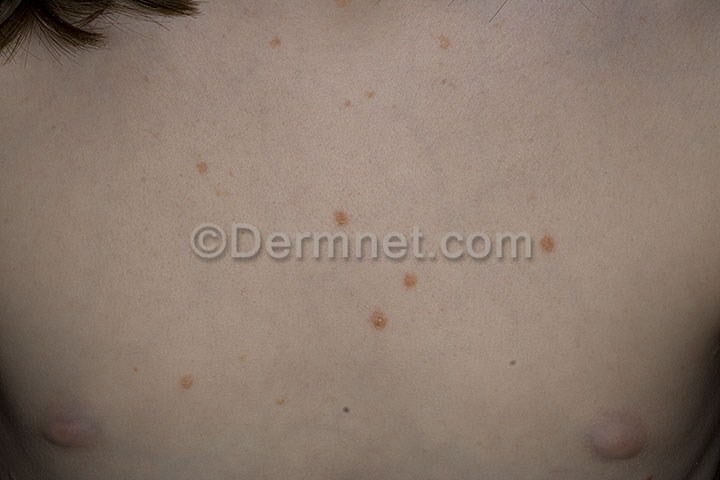Psoriasis: (348, 256, 425, 339), (187, 146, 242, 194), (531, 219, 573, 263), (172, 358, 206, 397), (426, 31, 463, 64), (321, 202, 358, 228)
